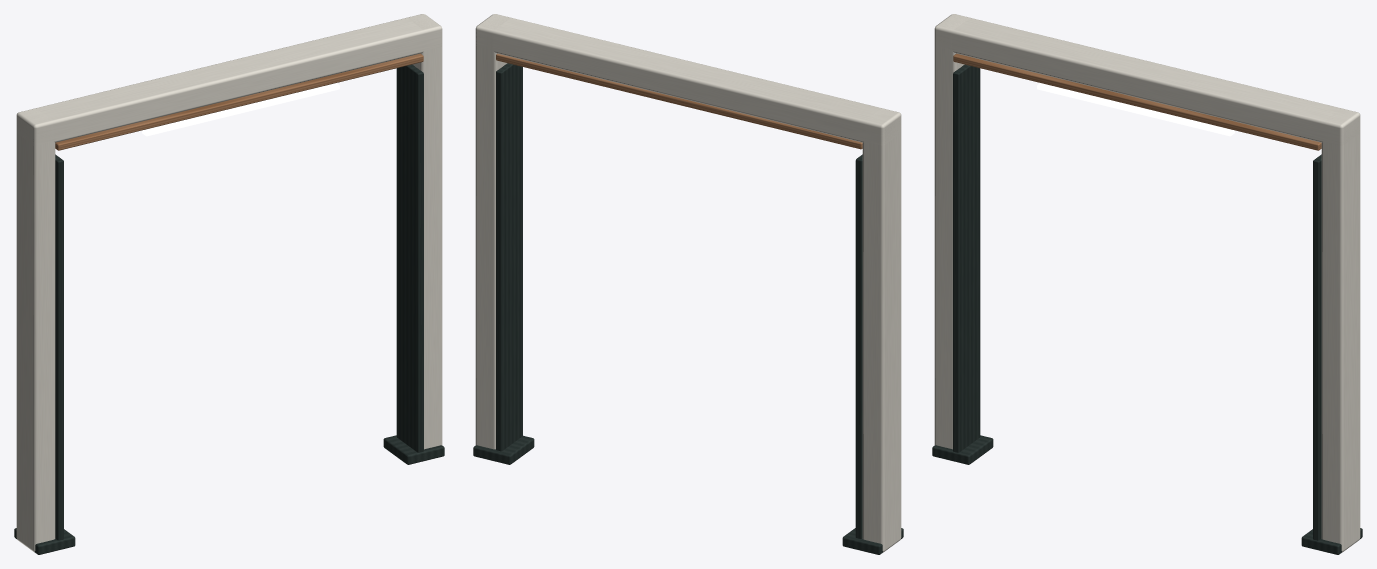
The model's file is stairwell-portal.glb.
3 views of the same model, side by side, from view 1: azimuth 30°, elevation 25°; view 2: azimuth 150°, elevation 25°; view 3: azimuth 330°, elevation 25° (orthographic).
Visible parts, largest first — view 1: StairPortal_Left, StairPortal_Header, StairPortal_InnerRight, StairPortal_Right, StairPortal_InnerTop, StairPortal_InnerLeft, StairPortal_Light, StairPortal_BaseRight, StairPortal_BaseLeft; view 2: StairPortal_Left, StairPortal_Header, StairPortal_InnerRight, StairPortal_Right, StairPortal_InnerLeft, StairPortal_InnerTop, StairPortal_BaseRight, StairPortal_BaseLeft; view 3: StairPortal_Right, StairPortal_Header, StairPortal_InnerLeft, StairPortal_Left, StairPortal_InnerTop, StairPortal_InnerRight, StairPortal_Light, StairPortal_BaseLeft, StairPortal_BaseRight.
Part boxes in pixels (x1,y1,x2,y2): StairPortal_Left: (16, 108, 55, 551); StairPortal_Header: (16, 14, 442, 145); StairPortal_InnerRight: (396, 64, 423, 452); StairPortal_Right: (407, 14, 442, 449); StairPortal_InnerTop: (55, 53, 423, 150); StairPortal_InnerLeft: (55, 154, 63, 540); StairPortal_Light: (142, 83, 339, 136); StairPortal_BaseRight: (383, 435, 444, 464); StairPortal_BaseLeft: (14, 528, 75, 554); StairPortal_Left: (862, 108, 901, 551); StairPortal_Header: (475, 14, 901, 145); StairPortal_InnerRight: (496, 63, 522, 451); StairPortal_Right: (475, 14, 510, 449); StairPortal_InnerLeft: (855, 154, 862, 538); StairPortal_InnerTop: (496, 53, 862, 149); StairPortal_BaseRight: (473, 435, 534, 464); StairPortal_BaseLeft: (842, 528, 903, 554); StairPortal_Right: (1321, 108, 1360, 551); StairPortal_Header: (935, 14, 1360, 145); StairPortal_InnerLeft: (953, 64, 980, 452); StairPortal_Left: (934, 14, 969, 449); StairPortal_InnerTop: (953, 53, 1321, 150); StairPortal_InnerRight: (1313, 154, 1321, 540); StairPortal_Light: (1037, 83, 1234, 136); StairPortal_BaseLeft: (932, 435, 993, 464); StairPortal_BaseRight: (1301, 528, 1362, 554).
Size of the model in its own units: 7.8 by 7.8 by 0.87.
4 materials, 3 textured.
